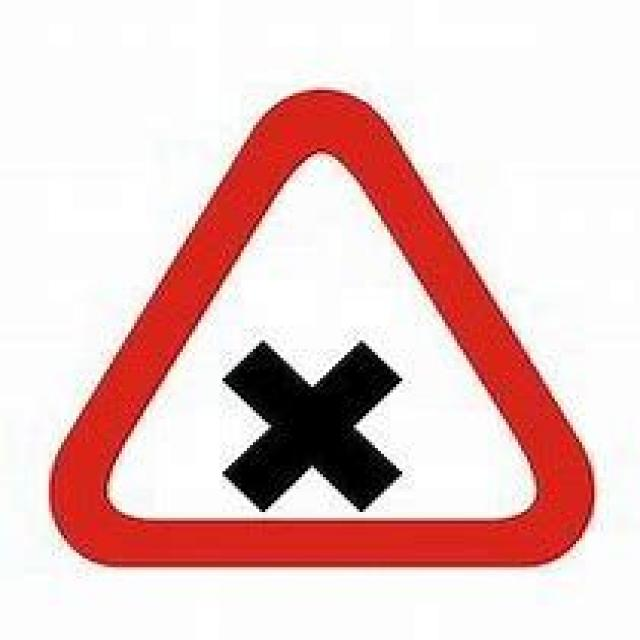CROSS_ROAD: (43, 87, 594, 579)
